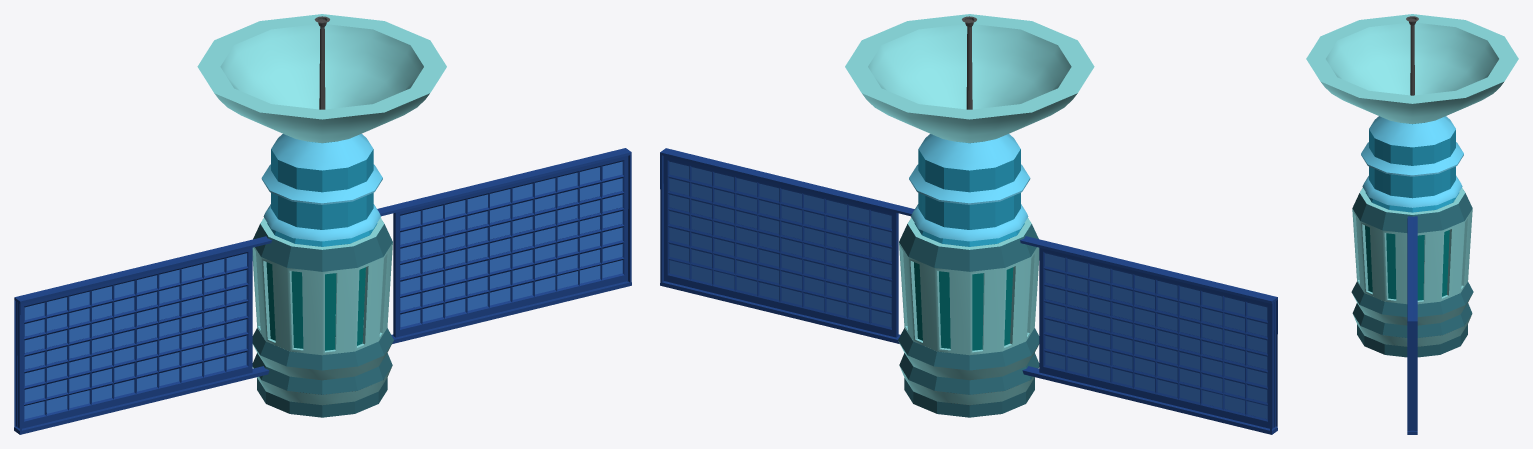
File: satellite.glb
The picture shows the model from 3 angles, left to right: view 1: azimuth 30°, elevation 25°; view 2: azimuth 150°, elevation 25°; view 3: azimuth 270°, elevation 25°; orthographic projection. The views are drawn at different scales.
Visible parts, largest first — view 1: Cylinder_1, Cylinder.001_2, Cylinder.003_4, Cylinder.004_5, Cylinder.002_3, Cylinder.007_8, Cylinder.006_7, Cylinder.005_6, Cylinder.008_9, Cylinder.009_10; view 2: Cylinder_1, Cylinder.001_2, Cylinder.003_4, Cylinder.004_5, Cylinder.002_3, Cylinder.007_8, Cylinder.006_7, Cylinder.005_6, Cylinder.008_9, Cylinder.009_10; view 3: Cylinder_1, Cylinder.007_8, Cylinder.006_7, Cylinder.005_6, Cylinder.002_3, Cylinder.008_9, Cylinder.009_10.
Boxes of the visible parts, x1,y1,x2,y2 form: Cylinder_1: [197, 14, 446, 405]; Cylinder.001_2: [400, 161, 622, 327]; Cylinder.003_4: [24, 253, 246, 419]; Cylinder.004_5: [14, 236, 282, 434]; Cylinder.002_3: [377, 148, 631, 343]; Cylinder.007_8: [252, 223, 393, 417]; Cylinder.006_7: [261, 134, 382, 241]; Cylinder.005_6: [267, 141, 377, 246]; Cylinder.008_9: [266, 244, 365, 350]; Cylinder.009_10: [297, 16, 355, 394]; Cylinder_1: [845, 14, 1094, 405]; Cylinder.001_2: [669, 161, 891, 327]; Cylinder.003_4: [1045, 253, 1267, 419]; Cylinder.004_5: [1009, 236, 1277, 434]; Cylinder.002_3: [660, 148, 914, 343]; Cylinder.007_8: [898, 224, 1039, 417]; Cylinder.006_7: [909, 134, 1030, 241]; Cylinder.005_6: [914, 141, 1024, 246]; Cylinder.008_9: [914, 243, 1013, 350]; Cylinder.009_10: [936, 16, 994, 405]; Cylinder_1: [1306, 14, 1518, 346]; Cylinder.007_8: [1351, 193, 1473, 357]; Cylinder.006_7: [1361, 116, 1463, 207]; Cylinder.005_6: [1365, 122, 1459, 212]; Cylinder.002_3: [1407, 216, 1417, 434]; Cylinder.008_9: [1365, 212, 1449, 300]; Cylinder.009_10: [1384, 16, 1418, 335].
Bounding box in the file's own units: 19.74 × 11.66 × 6.98.
